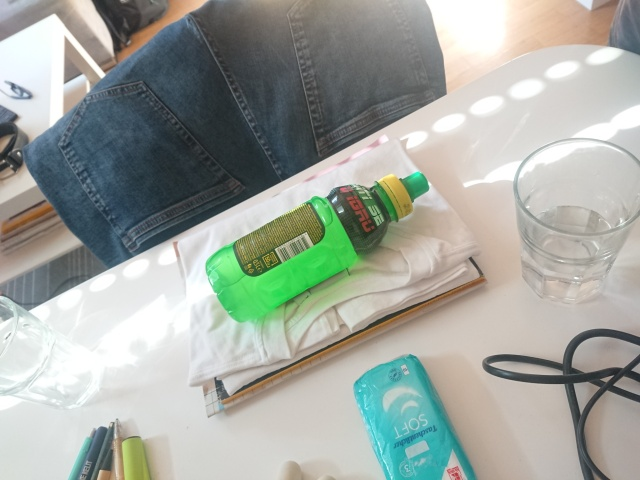Vindi Iso Sport Lemon-Grapefruit 500mL: (202, 169, 432, 326)
